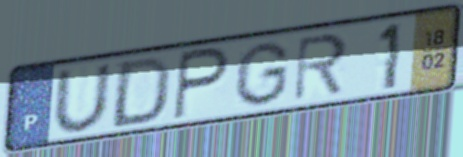1: (376, 19, 404, 92)
D: (106, 54, 175, 131)
G: (230, 40, 293, 109)
P: (170, 44, 233, 123)
R: (291, 30, 351, 104)
U: (50, 60, 114, 135)
